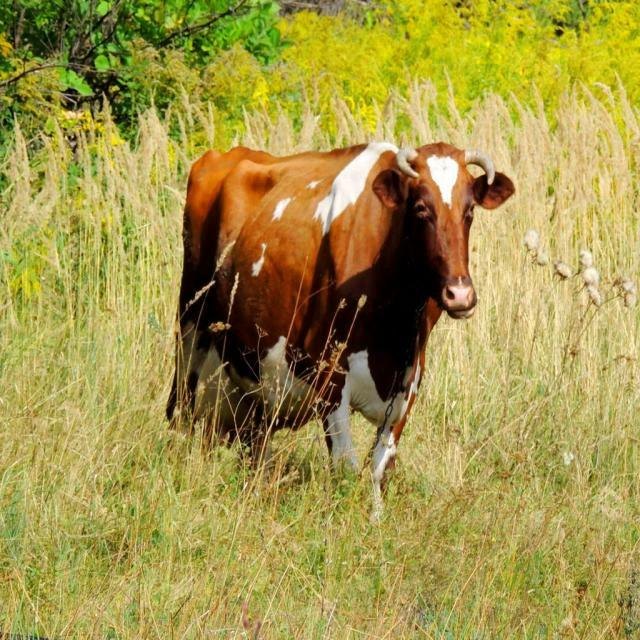cow: (168, 142, 514, 517)
